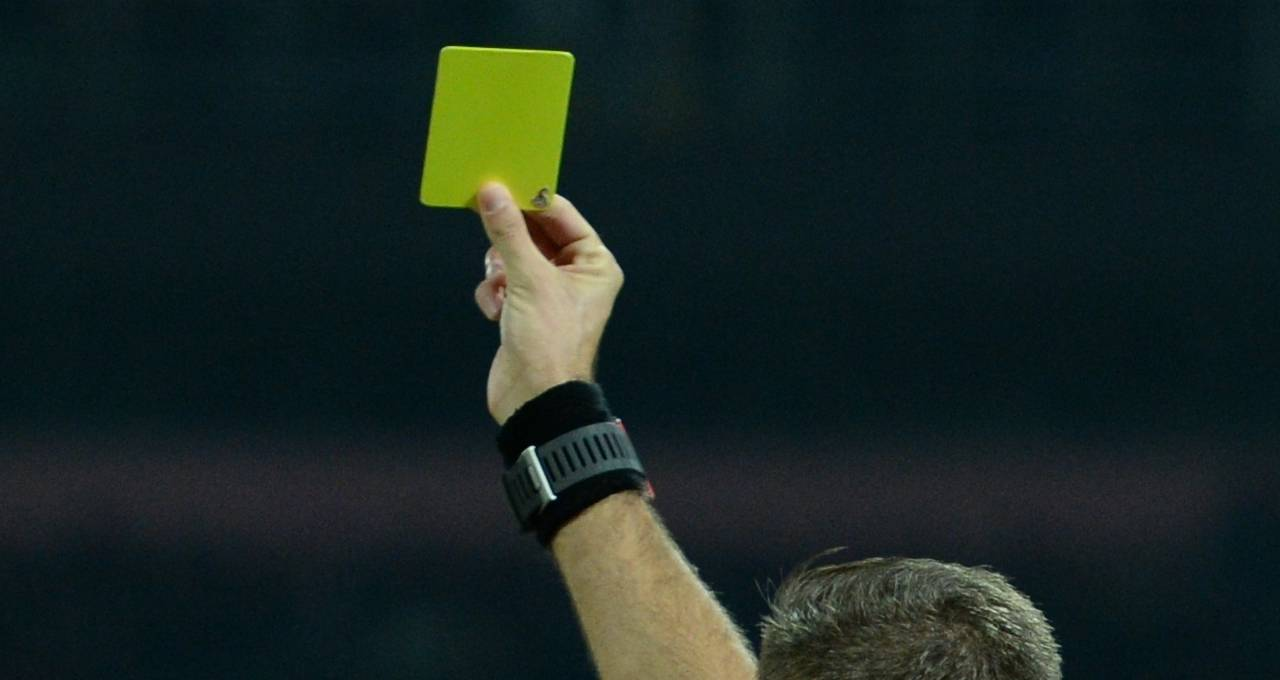yellow_card: (389, 26, 652, 414)
